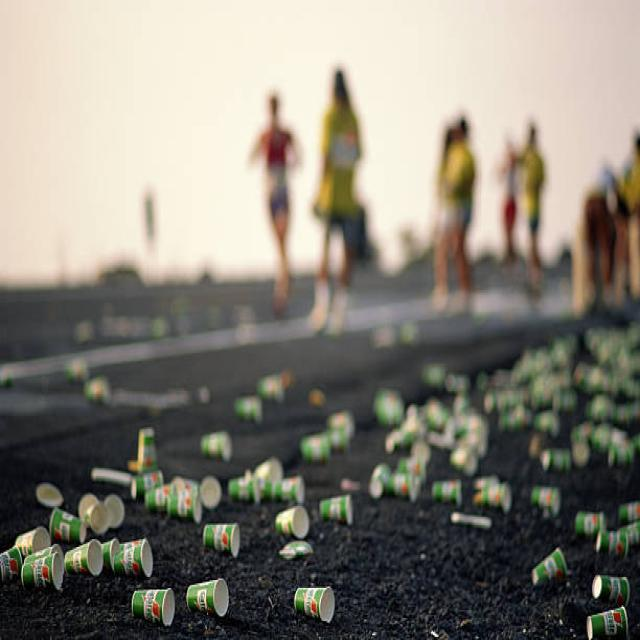plastic: (42, 480, 640, 630), (389, 328, 637, 460)
